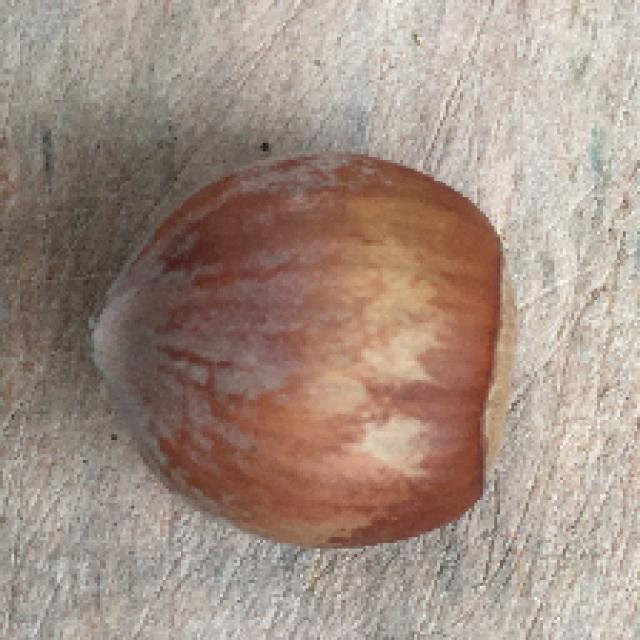qualityHazelnut: (75, 130, 526, 554)
